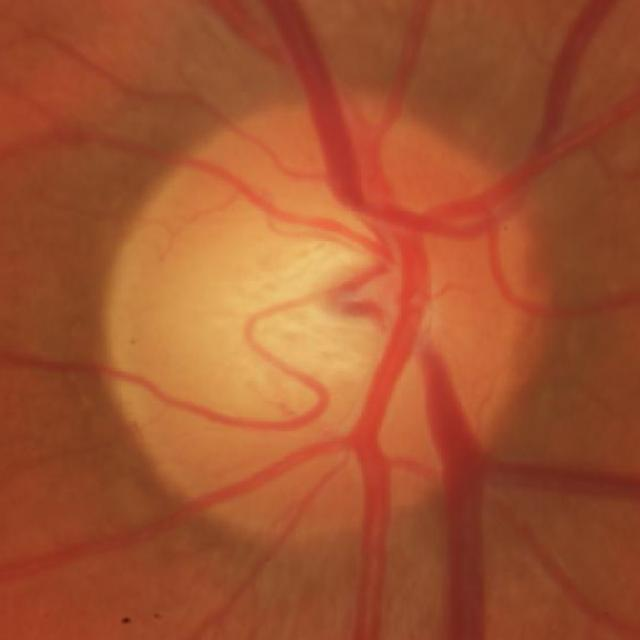OC: (221, 215, 403, 418)
OD: (106, 102, 543, 538)
